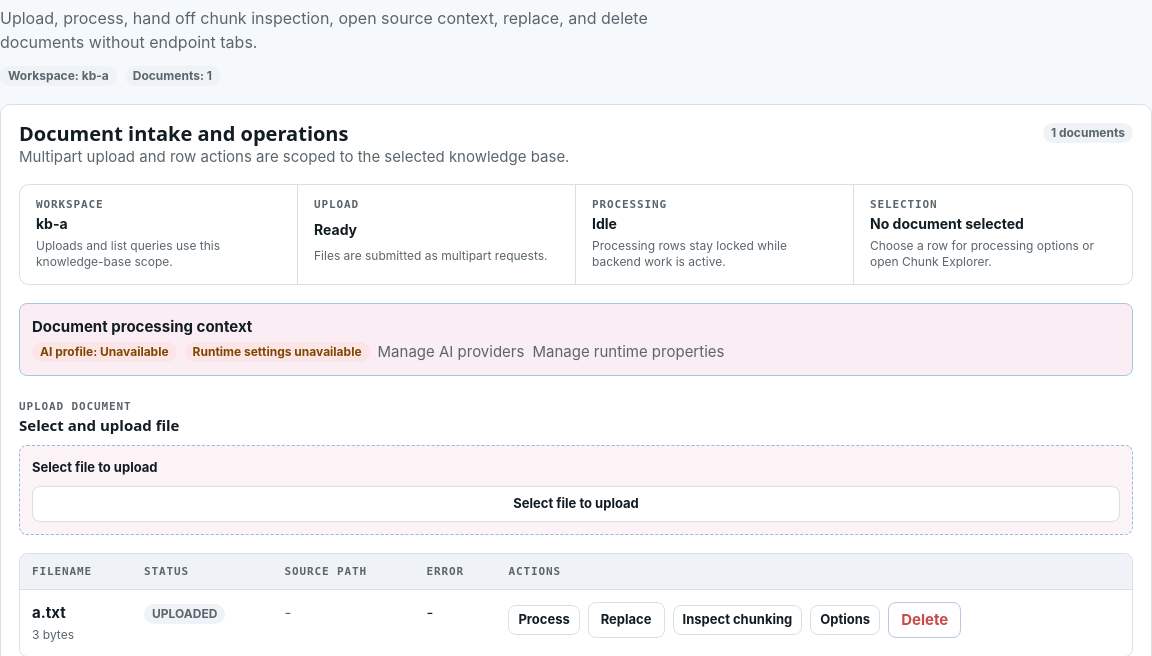
Test: documents page › shows process mutation errors while keeping chunk inspection as a handoff
This screenshot has width=1152, height=656.
Click the button "Process" at (544, 620), box x1=508 y1=605 x2=580 y2=635
(page scrolled)
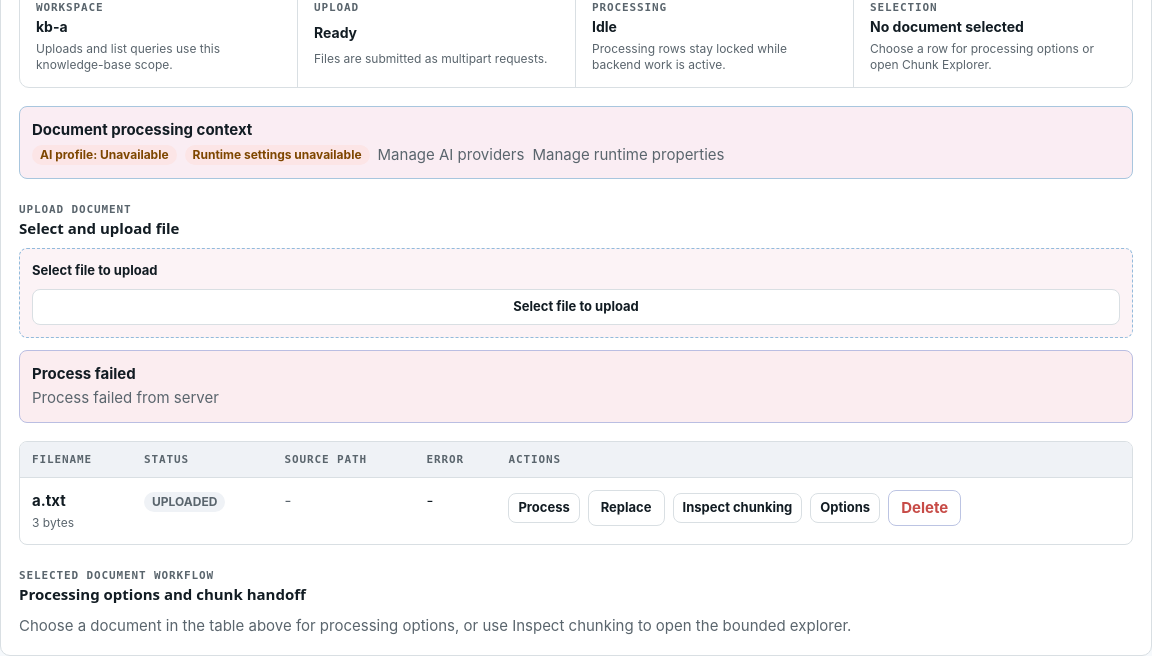
Check: the text "Process failed from server" is shown, box x1=32 y1=388 x2=219 y2=407
